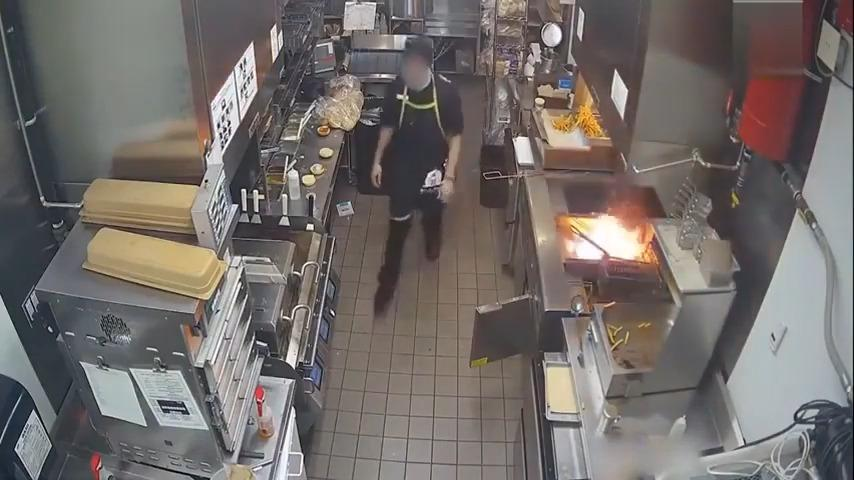fire: (571, 203, 649, 266)
